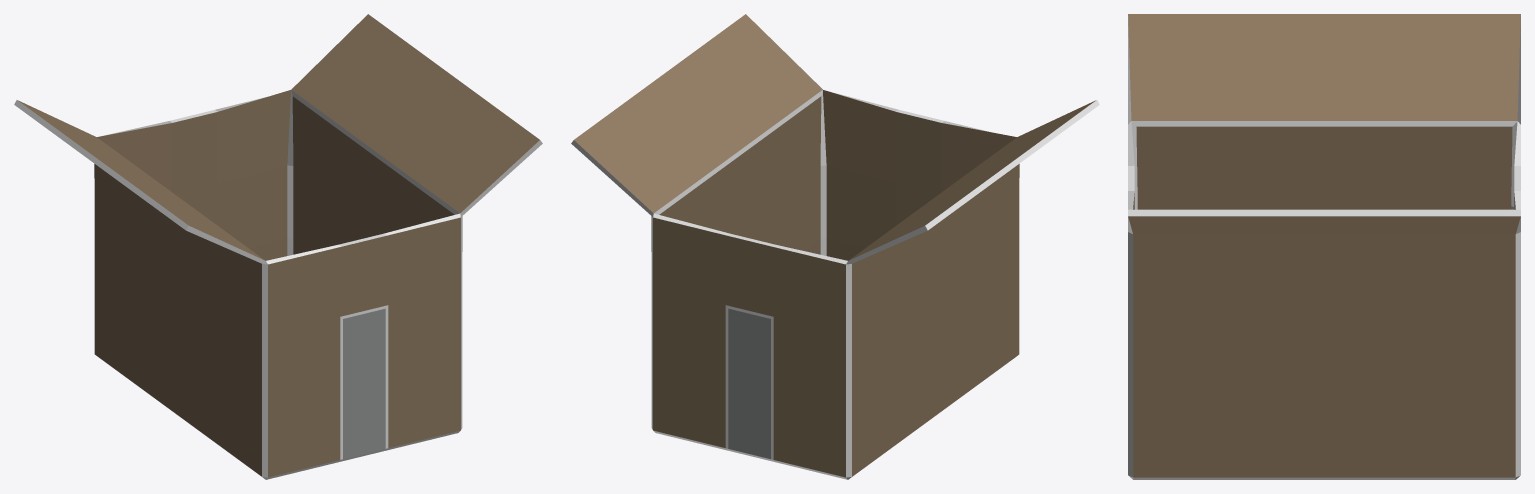
File: paper box.fbx
3 renders of one model, left to right at view 1: azimuth 30°, elevation 25°; view 2: azimuth 150°, elevation 25°; view 3: azimuth 270°, elevation 25°, orthographic. The views are drawn at different scales.
Visible parts, largest first — view 1: Paper box; view 2: Paper box; view 3: Paper box.
Part boxes in pixels (left/top/right/bottom): Paper box: left=14, top=14, right=542, bottom=479; Paper box: left=571, top=14, right=1099, bottom=479; Paper box: left=1128, top=14, right=1520, bottom=479.
Bounding box in the file's own units: 74.36 × 54.83 × 62.08.
